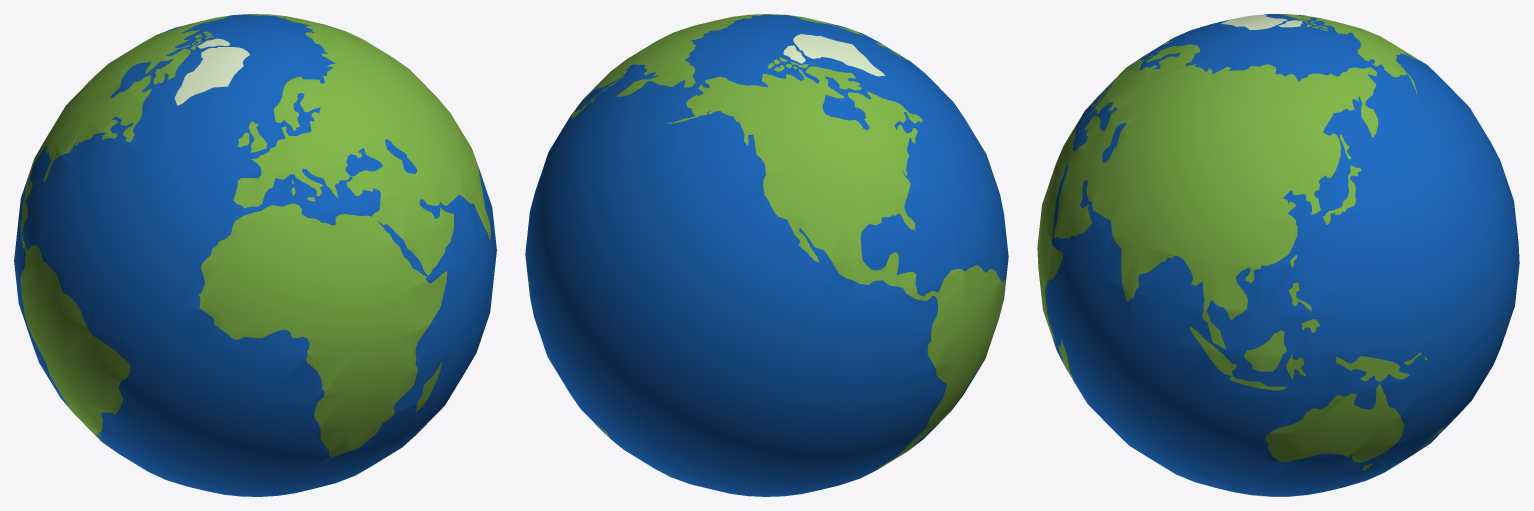
Rendered from Globe_Showing_Europe_Africa.gltf.
3 views of the same model, side by side, from view 1: azimuth 30°, elevation 25°; view 2: azimuth 150°, elevation 25°; view 3: azimuth 270°, elevation 25° (orthographic).
Visible parts, largest first — view 1: Sphere.392; view 2: Sphere.392; view 3: Sphere.392.
Boxes of the visible parts, x1,y1,x2,y2 form: Sphere.392: (14, 14, 496, 496); Sphere.392: (525, 14, 1008, 496); Sphere.392: (1037, 14, 1519, 496).
Size of the model in its own units: 1.99 by 2 by 1.99.
Materials: 1 (1 with a texture image).
